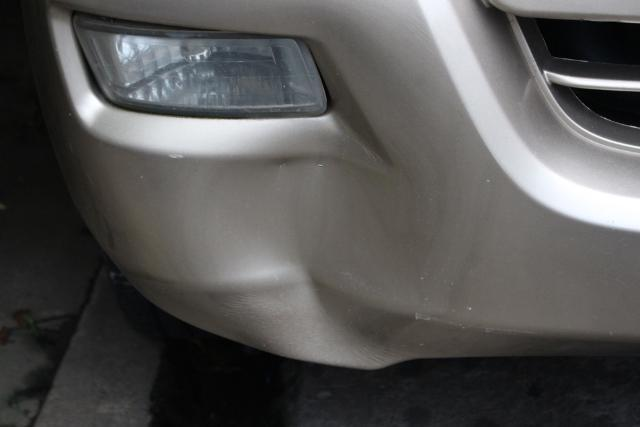Bumper: (70, 124, 640, 368)
